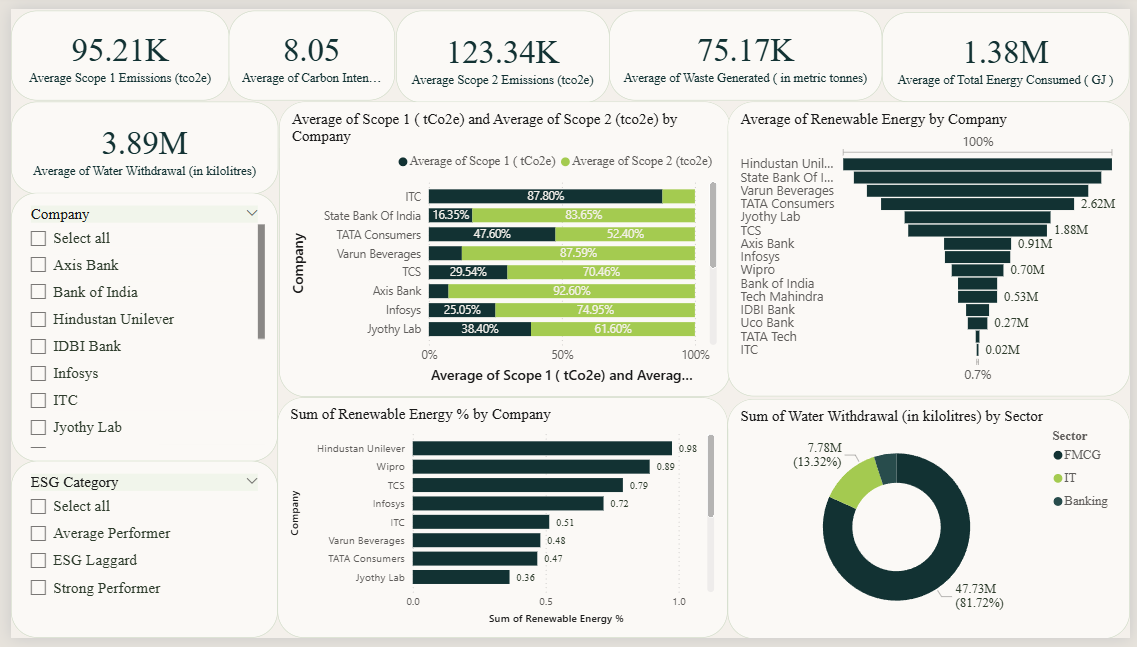

This screenshot's page, from the dashboard's own definition file:
{"tool":"powerbi","page":{"name":"Sustainability Metrics","canvas":[1280,720],"ordinal":1},"visuals":[{"type":"card","fields":{"Values":["brsr_data.Average Scope 1 Emissions (tco2e)"]},"box":[0,2.5,250,102.5],"z":0},{"type":"card","fields":{"Values":["brsr_data.Average Scope 2 Emissions (tco2e)"]},"box":[440,2,244,106],"z":1},{"type":"card","fields":{"Values":["Avg(brsr_data.Carbon Intensity)"]},"box":[250,2.5,190,102.5],"z":2},{"type":"card","fields":{"Values":["Avg(brsr_data.Waste Generated ( in metric tonnes))"]},"box":[685,2.5,312.5,102.5],"z":3},{"type":"card","fields":{"Values":["Avg(brsr_data.Total Energy Consumed ( GJ ))"]},"box":[997.1,2.9,282.9,102.9],"z":4},{"type":"card","fields":{"Values":["Avg(brsr_data.Water Withdrawal (in kilolitres))"]},"box":[0,106,306,106],"z":5},{"type":"slicer","fields":{"Values":["brsr_data.Company"]},"box":[0,210,305,307.5],"z":7},{"type":"slicer","fields":{"Values":["brsr_data.ESG Category"]},"box":[0,517.5,305,202.5],"z":8},{"type":"hundredPercentStackedBarChart","fields":{"Category":["brsr_data.Company"],"Y":["Avg(brsr_data.Scope 1 ( tCo2e))","Avg(brsr_data.Scope 2 (tco2e))"]},"box":[306,106,516,338],"z":9},{"type":"clusteredBarChart","fields":{"Category":["brsr_data.Company"],"Y":["Sum(brsr_data.Renewable Energy %)"]},"box":[305,445,515,275],"z":10},{"type":"funnel","title":"Average of Renewable Energy by Company","fields":{"Category":["brsr_data.Company"],"Y":["Sum(brsr_data.Total Energy Consumed ( GJ ))"]},"box":[820,105.7,460,337.1],"z":11},{"type":"donutChart","fields":{"Category":["brsr_data.Sector"],"Y":["Sum(brsr_data.Water Withdrawal (in kilolitres))"]},"box":[820,445.7,460,274.3],"z":12}]}

Visuals, with their boxes in screenshot pixels (x1, y1, x2, y2), scaled from the page's 1280x720 canvas onto the 1137x647 screenshot:
card - brsr_data.Average Scope 1 Emissions (tco2e): crop(0, 2, 222, 94)
card - brsr_data.Average Scope 2 Emissions (tco2e): crop(391, 2, 608, 97)
card - Avg(brsr_data.Carbon Intensity): crop(222, 2, 391, 94)
card - Avg(brsr_data.Waste Generated ( in metric tonnes)): crop(608, 2, 886, 94)
card - Avg(brsr_data.Total Energy Consumed ( GJ )): crop(886, 3, 1136, 95)
card - Avg(brsr_data.Water Withdrawal (in kilolitres)): crop(0, 95, 272, 191)
slicer - brsr_data.Company: crop(0, 189, 271, 465)
slicer - brsr_data.ESG Category: crop(0, 465, 271, 646)
hundredPercentStackedBarChart - brsr_data.Company x Avg(brsr_data.Scope 1 ( tCo2e)): crop(272, 95, 730, 399)
clusteredBarChart - brsr_data.Company x Sum(brsr_data.Renewable Energy %): crop(271, 400, 728, 646)
"Average of Renewable Energy by Company" funnel: crop(728, 95, 1136, 398)
donutChart - brsr_data.Sector x Sum(brsr_data.Water Withdrawal (in kilolitres)): crop(728, 401, 1136, 646)
